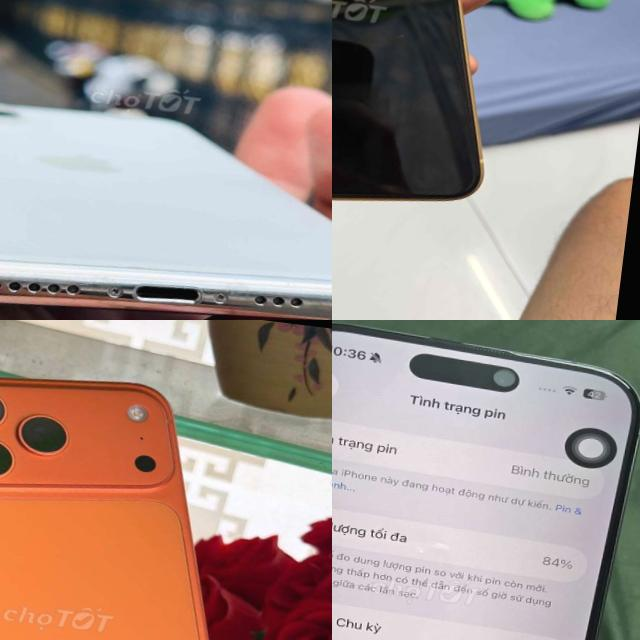scratch: (0, 258, 137, 310)
